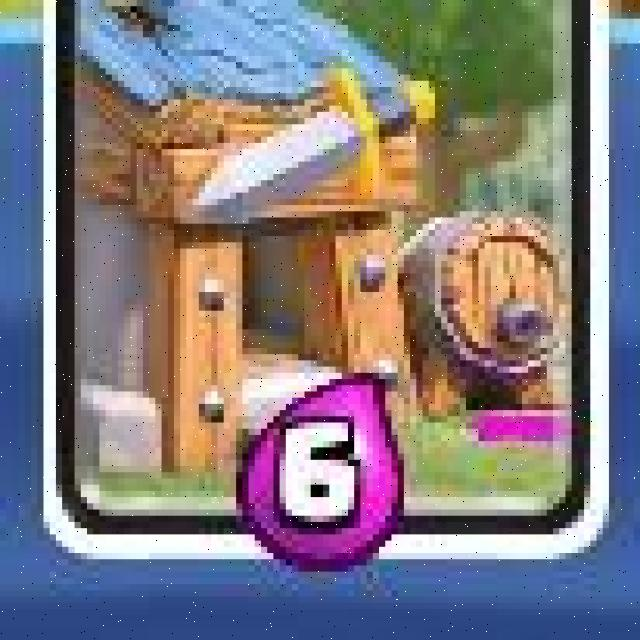Barbarian_Hut: (40, 0, 613, 565)
